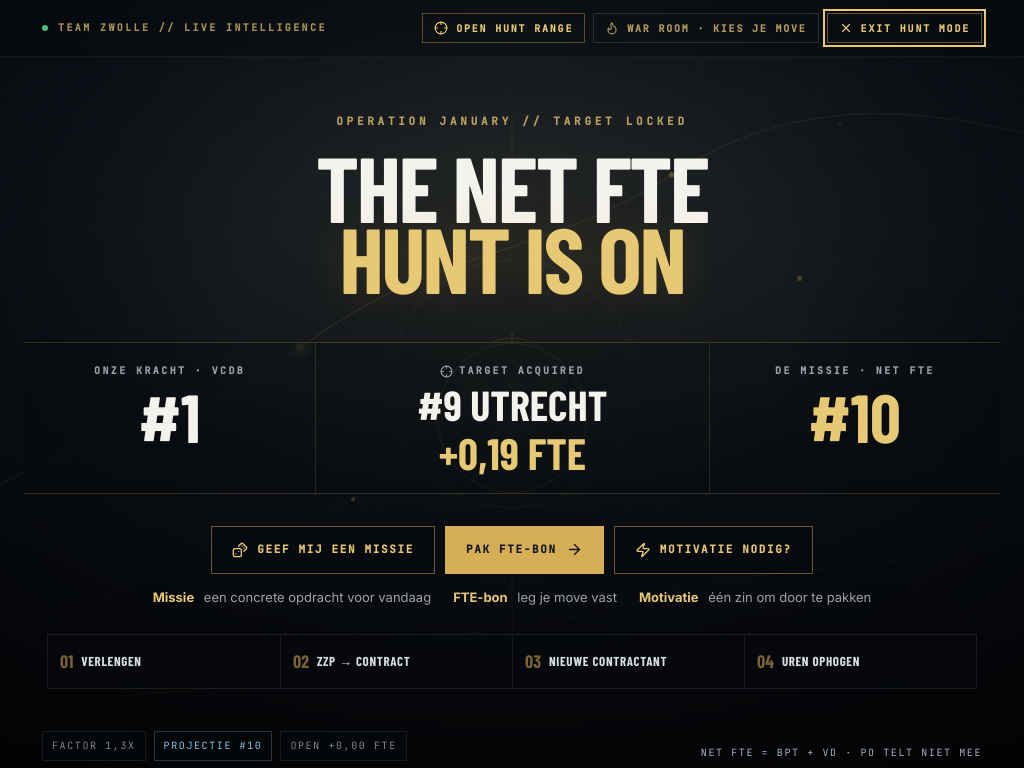
Test: HuntModeOverlay — approved design: scene → target → action › reveals › TERUG NAAR ROOM closes the reveal and returns focus to its button
Click the button "Geef mij een missie": {"x": 323, "y": 550} [211,526,435,574]
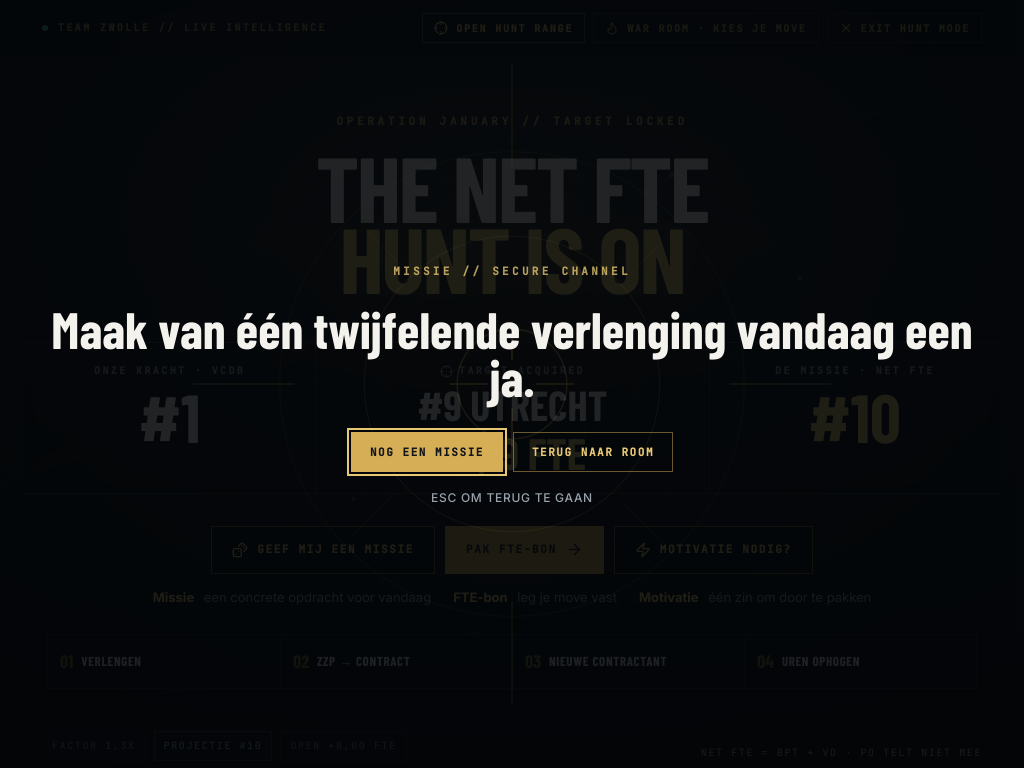
Click the button "Terug naar room": {"x": 593, "y": 452} [513,432,673,472]
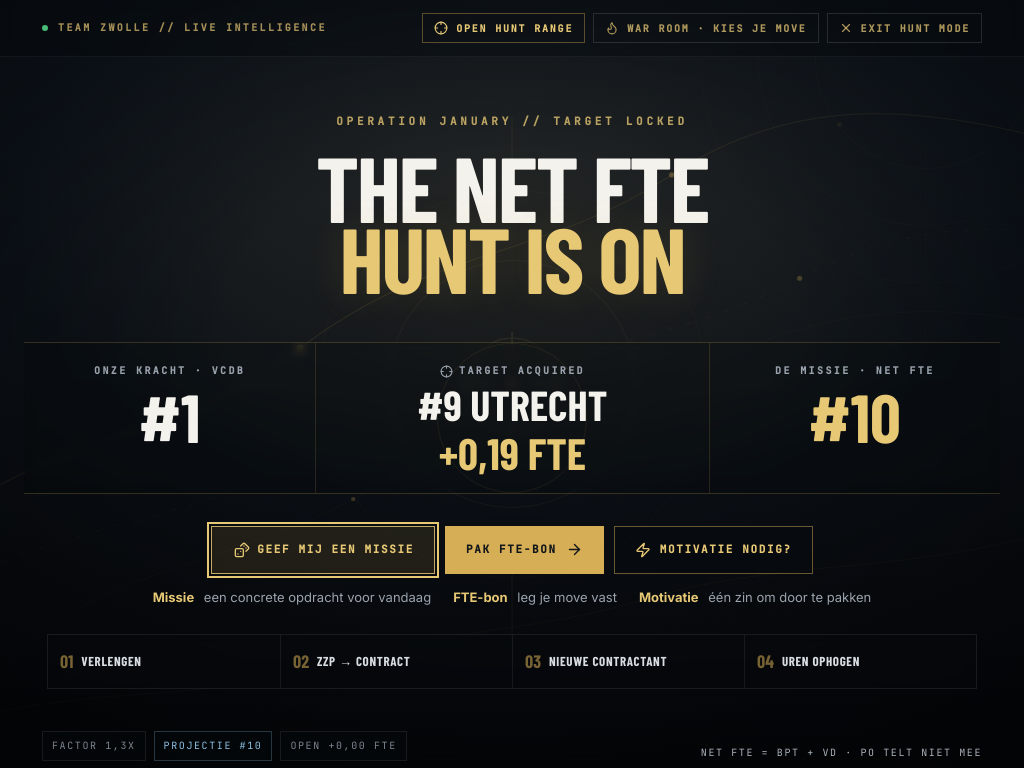
Expected: the dialog with test id "hunt-reveal" is gone
